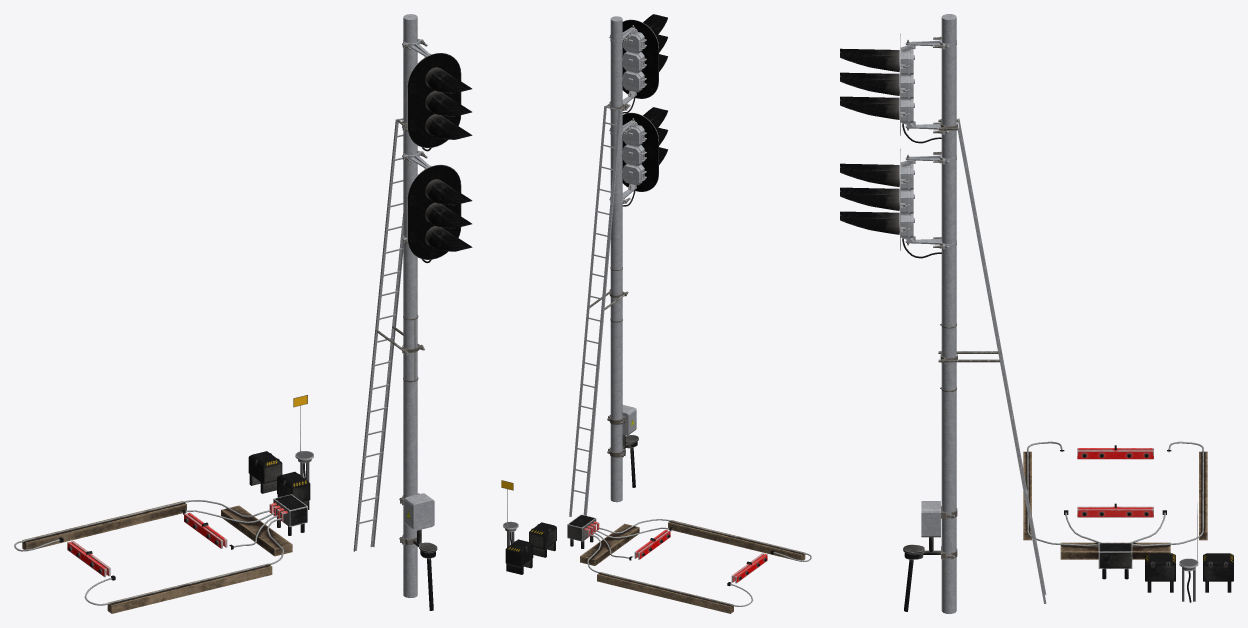
Rendered from RM_sig_P_MM2_YGx+RYW_3+3_rout.gltf.
The picture shows the model from 3 angles, left to right: view 1: azimuth 30°, elevation 25°; view 2: azimuth 150°, elevation 25°; view 3: azimuth 270°, elevation 25°; orthographic projection. The views are drawn at different scales.
Visible parts, largest first — view 1: Светофор 3+2, Изостык; view 2: Светофор 3+2, Изостык; view 3: Светофор 3+2, Изостык.
Part boxes in pixels (<box>): Светофор 3+2: <box>353,14,472,610</box>; Изостык: <box>14,395,313,613</box>; Светофор 3+2: <box>569,14,668,516</box>; Изостык: <box>501,480,811,613</box>; Светофор 3+2: <box>840,14,1046,613</box>; Изостык: <box>1023,441,1233,602</box>.
Size of the model in its own units: 4.17 by 7.57 by 4.55.
3 materials, 2 textured.
